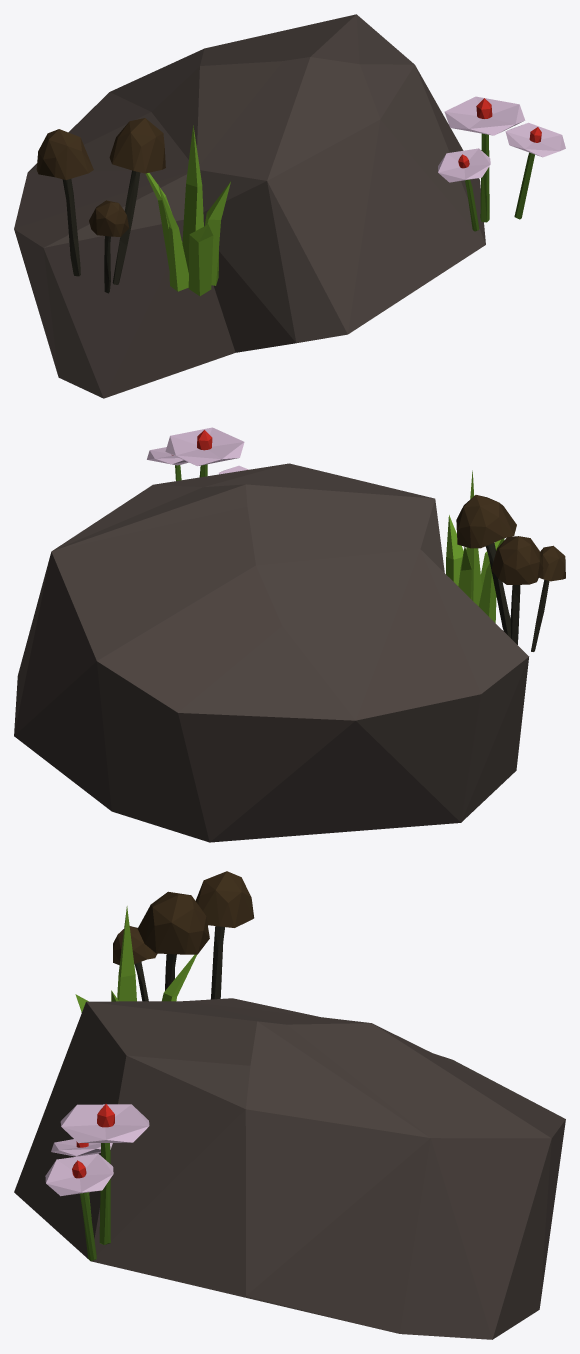
File: rock2.obj
The picture shows the model from 3 angles, top to bottom: view 1: azimuth 30°, elevation 25°; view 2: azimuth 150°, elevation 25°; view 3: azimuth 270°, elevation 25°; orthographic projection. The views are drawn at different scales.
Parts seen in each view (by area): view 1: Rock9_Cylinder.039; view 2: Rock9_Cylinder.039; view 3: Rock9_Cylinder.039.
Part boxes in pixels (x1,y1,x2,y2): Rock9_Cylinder.039: (14,14,565,398); Rock9_Cylinder.039: (14,427,565,842); Rock9_Cylinder.039: (14,871,565,1339).
Size of the model in its own units: 1.77 by 1.08 by 1.61.
